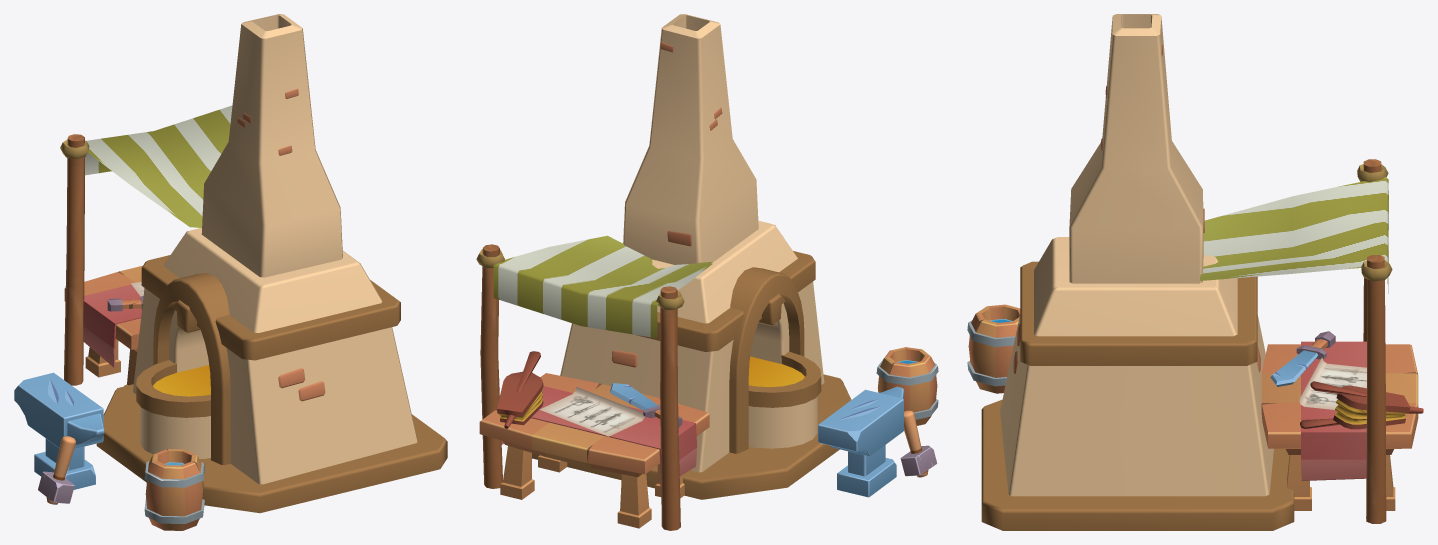
Rendered from Forge.fbx.
3 views of the same model, side by side, from view 1: azimuth 30°, elevation 25°; view 2: azimuth 150°, elevation 25°; view 3: azimuth 270°, elevation 25° (orthographic). The views are drawn at different scales.
Visible parts, largest first — view 1: Forge, Tent-02; view 2: Forge, Tent-02; view 3: Forge, Tent-02.
Boxes of the visible parts, x1,y1,x2,y2 form: Forge: (14, 14, 447, 530); Tent-02: (60, 105, 232, 385); Forge: (479, 14, 938, 528); Tent-02: (476, 235, 712, 530); Forge: (967, 14, 1423, 530); Tent-02: (1200, 159, 1392, 523).
Bounding box in the file's own units: 1.87 × 2.14 × 1.96.
